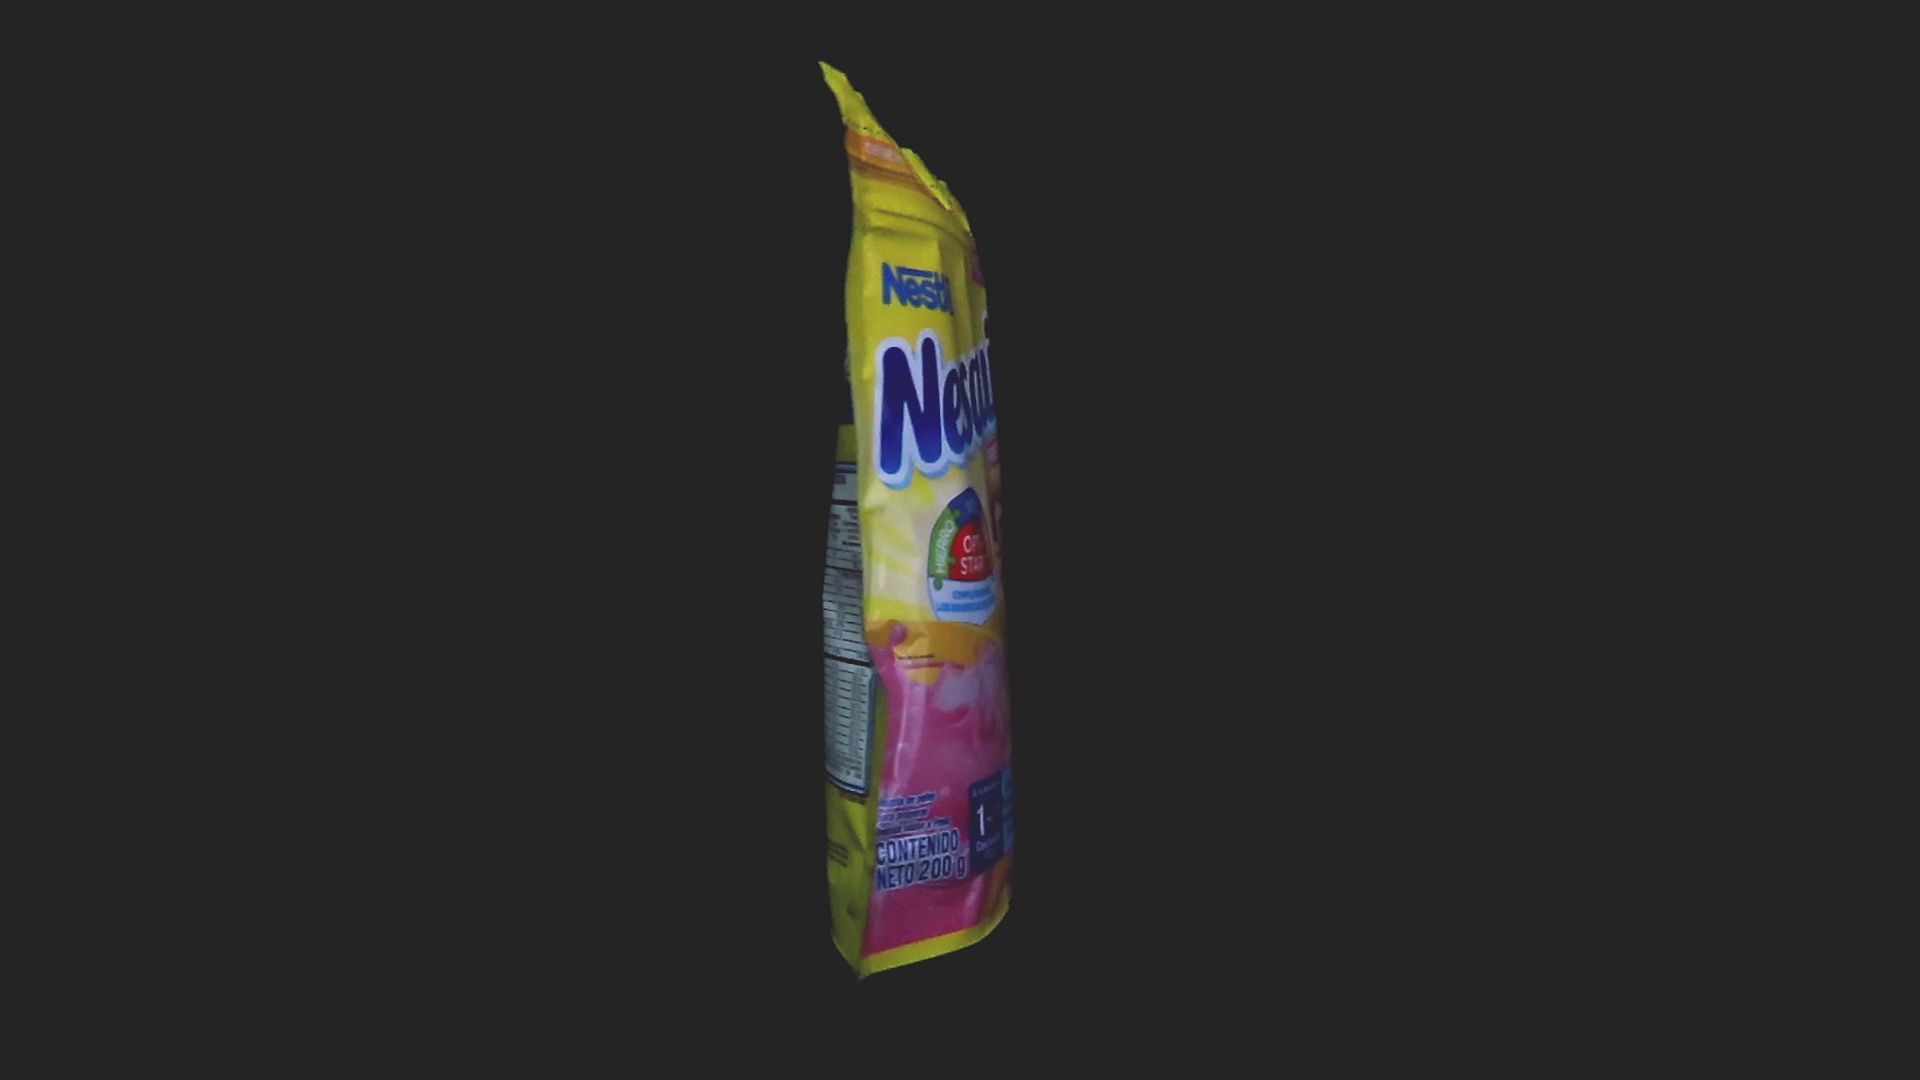COL0170305DYP20000: (814, 55, 1019, 985)
